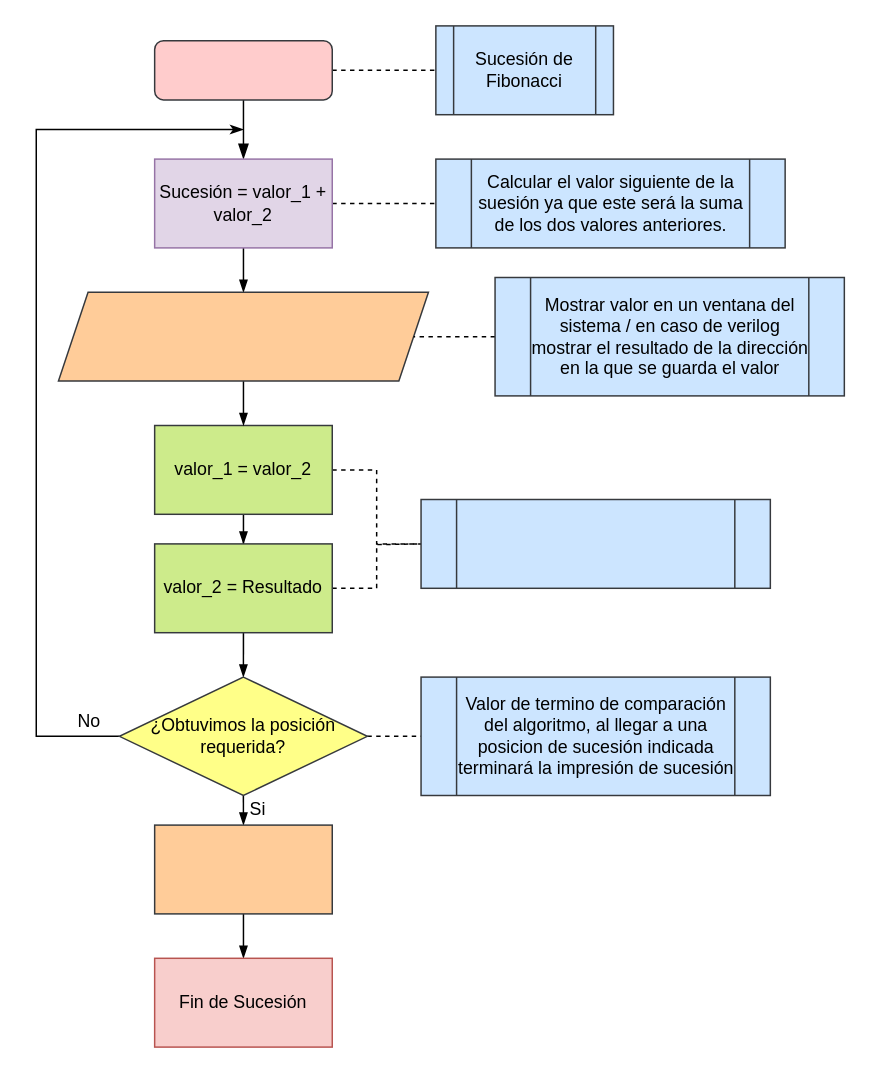
The diagram is 870 pixels wide and 1073 high, and some of its shapes have lost their labels. The box of each missing label's shape, as (x1, y1, x2, y2) in pixels:
Guardar en Memoria el Resultado Final de la sucesión: (153, 824, 332, 914)
Guardar valor en dirección especifica / Mostrar valor en Pantalla: (57, 291, 428, 381)
Inicio: (153, 39, 332, 100)
Realizar intercambio de valores para mantener el orden de sucesión: (420, 498, 770, 588)
